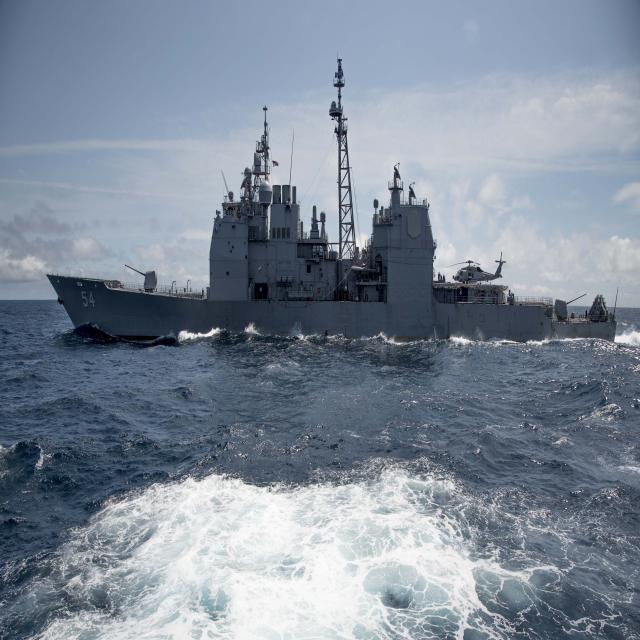navalvessels: (47, 51, 621, 362)
